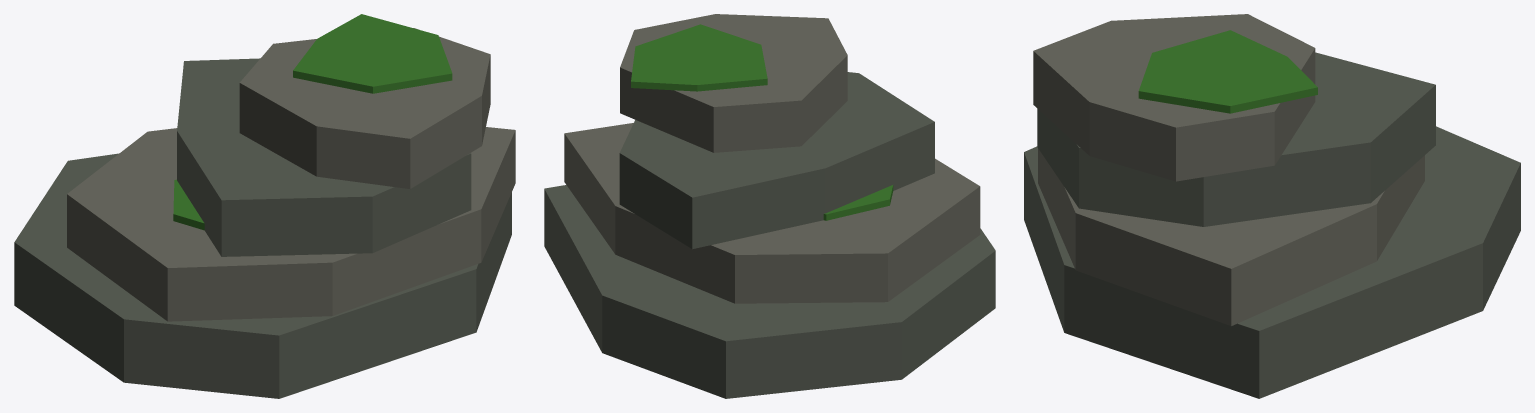
The model's file is JU_Rock_StoneLedge.obj.
The picture shows the model from 3 angles, left to right: view 1: azimuth 30°, elevation 25°; view 2: azimuth 150°, elevation 25°; view 3: azimuth 270°, elevation 25°; orthographic projection. The views are drawn at different scales.
Parts seen in each view (by area): view 1: slab_0, slab_1, slab_2, slab_3, moss_3, moss_1; view 2: slab_0, slab_1, slab_2, slab_3, moss_3, moss_1; view 3: slab_0, slab_2, slab_1, slab_3, moss_3.
Part boxes in pixels (<box>): slab_0: <box>14,153,511,398</box>; slab_1: <box>67,127,515,321</box>; slab_2: <box>177,58,471,256</box>; slab_3: <box>239,28,490,188</box>; moss_3: <box>293,14,452,93</box>; moss_1: <box>173,179,204,230</box>; slab_0: <box>544,185,995,398</box>; slab_1: <box>564,123,980,303</box>; slab_2: <box>619,72,934,249</box>; slab_3: <box>620,14,847,152</box>; moss_3: <box>631,24,767,91</box>; moss_1: <box>823,185,893,220</box>; slab_0: <box>1024,126,1520,398</box>; slab_2: <box>1037,52,1435,226</box>; slab_1: <box>1038,148,1424,325</box>; slab_3: <box>1033,14,1315,181</box>; moss_3: <box>1138,30,1317,113</box>.
Size of the model in its own units: 7.95 by 3.94 by 7.17.
